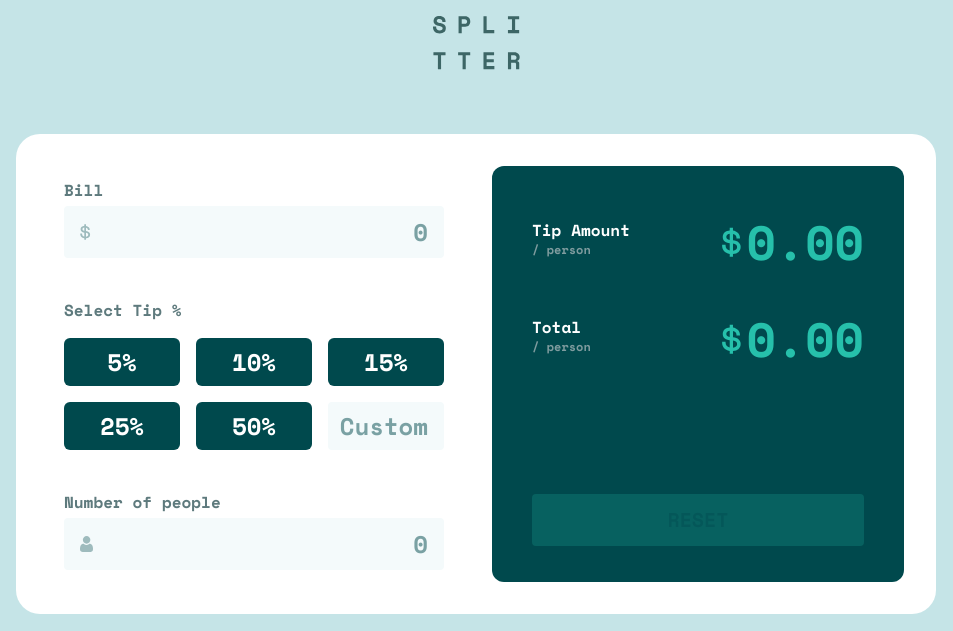
Scenario: Tip Calculator Full Suite › should calculate correct amounts for 15% tip and 2 people
In the number field labelled "Bill": (254, 232) [64,206,444,258], type "100"
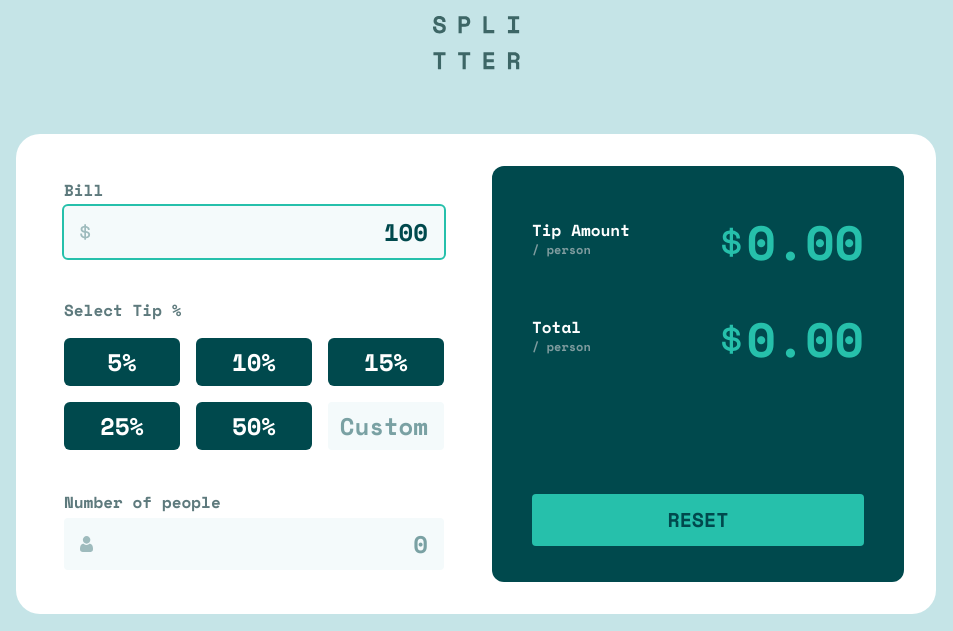
Click the button "15%": (386, 362) [328,338,444,386]
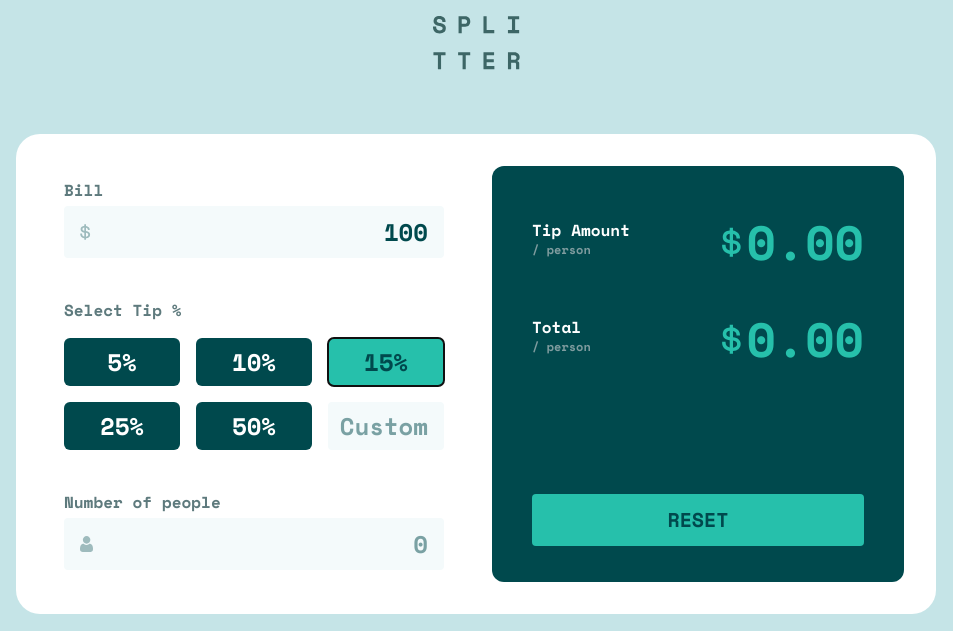
In the number field labelled "Number of people": (254, 544) [64,518,444,570], type "2"
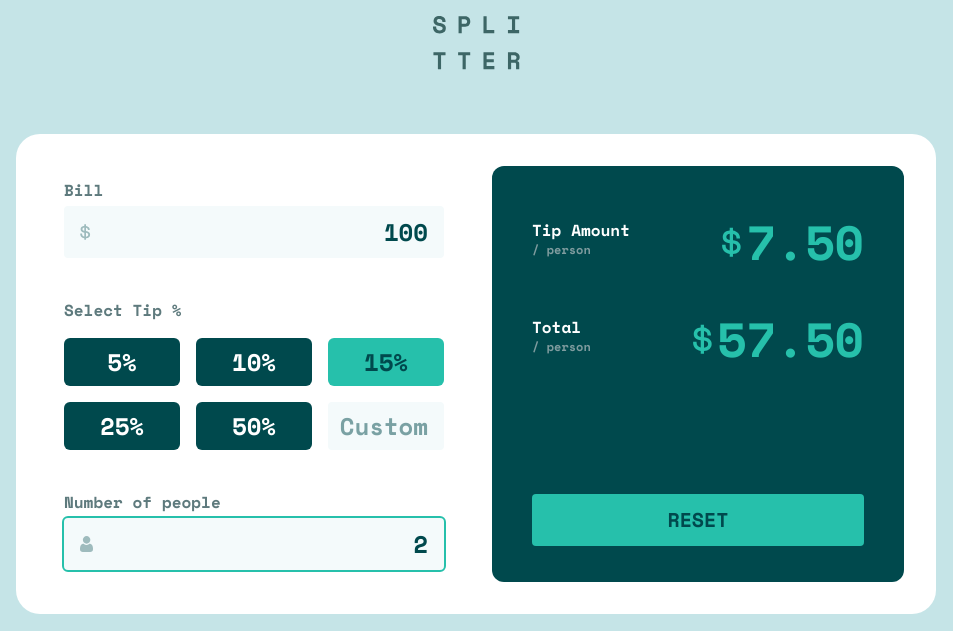
Expected: the element with test id "tip-amount" reads "7.50", [746,218,864,276]
Expected: the element with test id "total-amount" reads "57.50", [717,315,864,374]
